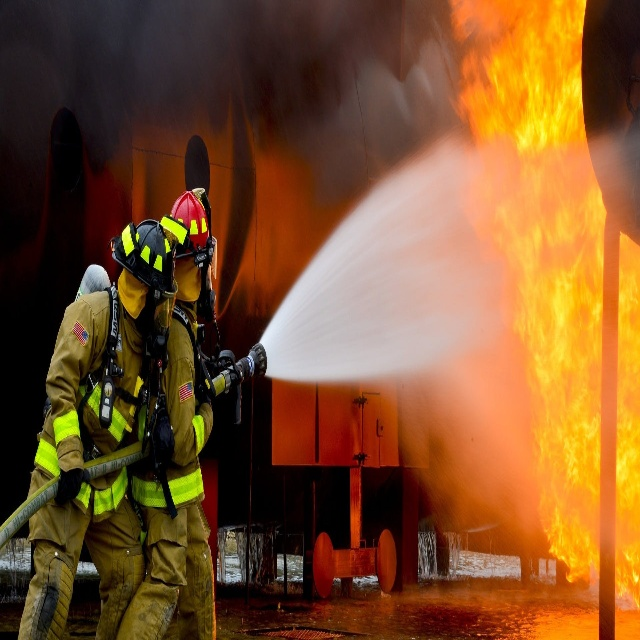Guantes: (53, 467, 90, 508), (152, 409, 175, 470)
